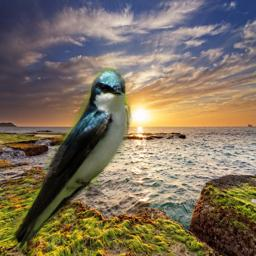Swallow: (8, 67, 133, 256)
